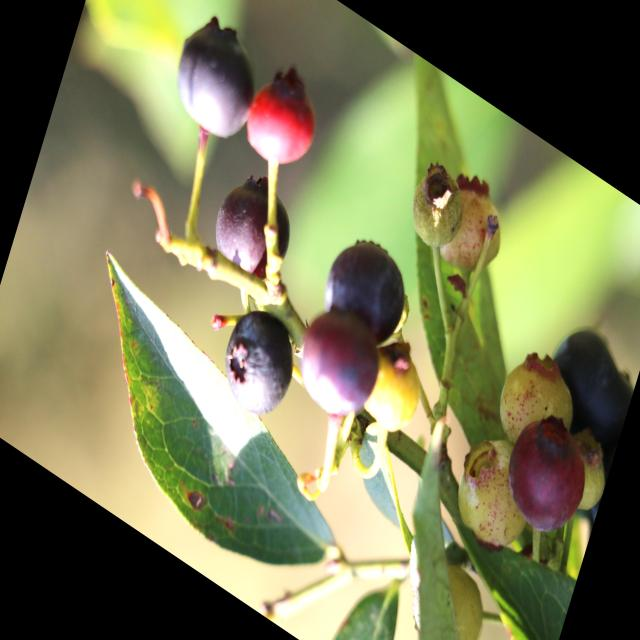blueberry: (161, 0, 270, 156), (536, 306, 640, 453), (203, 157, 304, 306), (498, 406, 596, 550), (317, 218, 416, 360), (290, 298, 383, 432), (214, 298, 304, 432)
blueberry-halfripe: (236, 47, 336, 192)
blueberry-unripe: (485, 334, 586, 474), (444, 424, 538, 564), (431, 168, 514, 292), (402, 544, 496, 640), (356, 340, 429, 444), (405, 165, 472, 265)
